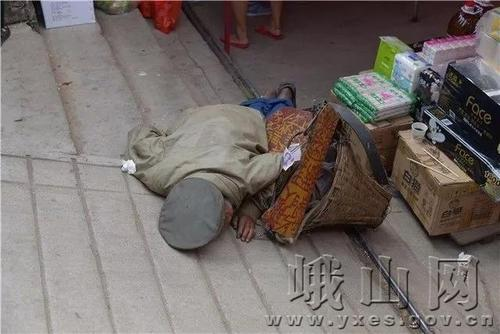fall: (116, 66, 315, 263)
